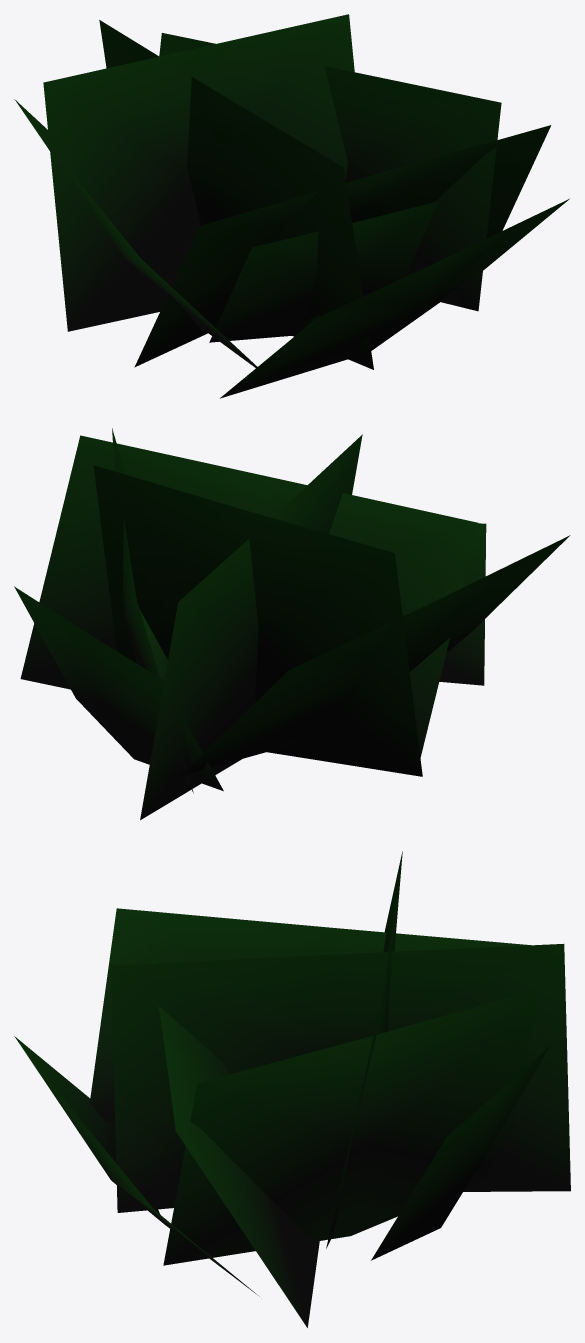
The model's file is GrassSimpleRHE_B_afsTREE_xlp.fbx.
The picture shows the model from 3 angles, top to bottom: view 1: azimuth 30°, elevation 25°; view 2: azimuth 150°, elevation 25°; view 3: azimuth 270°, elevation 25°; orthographic projection. The views are drawn at different scales.
Parts seen in each view (by area): view 1: Leaf.002_xw001_xw001_xt011_xlp03, Leaf.001_xw001_xw001_xt013_xlp02, Leaf.003_xw001_xw001_xt012_xlp03, Leaf.004_xw001_xw001_xt011_xlp01, Leaf.000_xw001_xw001_xt011_xlp03, Leaf.007_xw001_xw001_xt011_xlp01, Leaf.005_xw001_xw001_xt011_xlp02; view 2: Leaf.002_xw001_xw001_xt011_xlp03, Leaf.004_xw001_xw001_xt011_xlp01, Leaf.001_xw001_xw001_xt013_xlp02, Leaf.005_xw001_xw001_xt011_xlp02, Leaf.006_xw001_xw001_xt011_xlp02, Leaf.007_xw001_xw001_xt011_xlp01, Leaf.003_xw001_xw001_xt012_xlp03, Leaf.008_xw001_xw001_xt010_xlp01; view 3: Leaf.001_xw001_xw001_xt013_xlp02, Leaf.003_xw001_xw001_xt012_xlp03, Leaf.005_xw001_xw001_xt011_xlp02, Leaf.004_xw001_xw001_xt011_xlp01, Leaf.006_xw001_xw001_xt011_xlp02, Leaf.007_xw001_xw001_xt011_xlp01, Leaf.002_xw001_xw001_xt011_xlp03.
Part boxes in pixels (x1=…): Leaf.002_xw001_xw001_xt011_xlp03: x1=43, y1=14, x2=354, y2=331; Leaf.001_xw001_xw001_xt013_xlp02: x1=99, y1=20, x2=373, y2=369; Leaf.003_xw001_xw001_xt012_xlp03: x1=159, y1=33, x2=501, y2=311; Leaf.004_xw001_xw001_xt011_xlp01: x1=134, y1=125, x2=551, y2=367; Leaf.000_xw001_xw001_xt011_xlp03: x1=209, y1=201, x2=438, y2=342; Leaf.007_xw001_xw001_xt011_xlp01: x1=220, y1=199, x2=569, y2=398; Leaf.005_xw001_xw001_xt011_xlp02: x1=14, y1=99, x2=270, y2=378; Leaf.002_xw001_xw001_xt011_xlp03: x1=93, y1=465, x2=422, y2=776; Leaf.004_xw001_xw001_xt011_xlp01: x1=20, y1=435, x2=477, y2=757; Leaf.001_xw001_xw001_xt013_xlp02: x1=140, y1=434, x2=362, y2=820; Leaf.005_xw001_xw001_xt011_xlp02: x1=180, y1=535, x2=570, y2=776; Leaf.006_xw001_xw001_xt011_xlp02: x1=14, y1=586, x2=223, y2=791; Leaf.007_xw001_xw001_xt011_xlp01: x1=439, y1=523, x2=486, y2=685; Leaf.003_xw001_xw001_xt012_xlp03: x1=112, y1=428, x2=193, y2=793; Leaf.008_xw001_xw001_xt010_xlp01: x1=140, y1=610, x2=167, y2=681; Leaf.001_xw001_xw001_xt013_xlp02: x1=111, y1=944, x2=570, y2=1212; Leaf.003_xw001_xw001_xt012_xlp03: x1=163, y1=989, x2=539, y2=1265; Leaf.005_xw001_xw001_xt011_xlp02: x1=90, y1=908, x2=530, y2=1122; Leaf.004_xw001_xw001_xt011_xlp01: x1=148, y1=943, x2=319, y2=1327; Leaf.006_xw001_xw001_xt011_xlp02: x1=371, y1=1044, x2=551, y2=1260; Leaf.007_xw001_xw001_xt011_xlp01: x1=14, y1=1036, x2=259, y2=1296; Leaf.002_xw001_xw001_xt011_xlp03: x1=326, y1=851, x2=402, y2=1248.
Size of the model in its own units: 1.33 by 0.7293 by 1.33.
